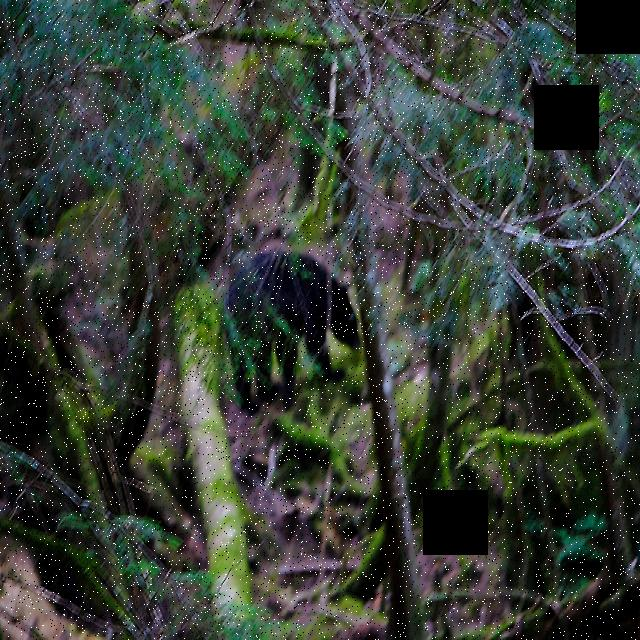Bear: (219, 244, 361, 407)
